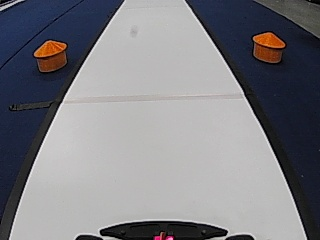granary: (31, 37, 68, 72), (250, 30, 286, 63)
